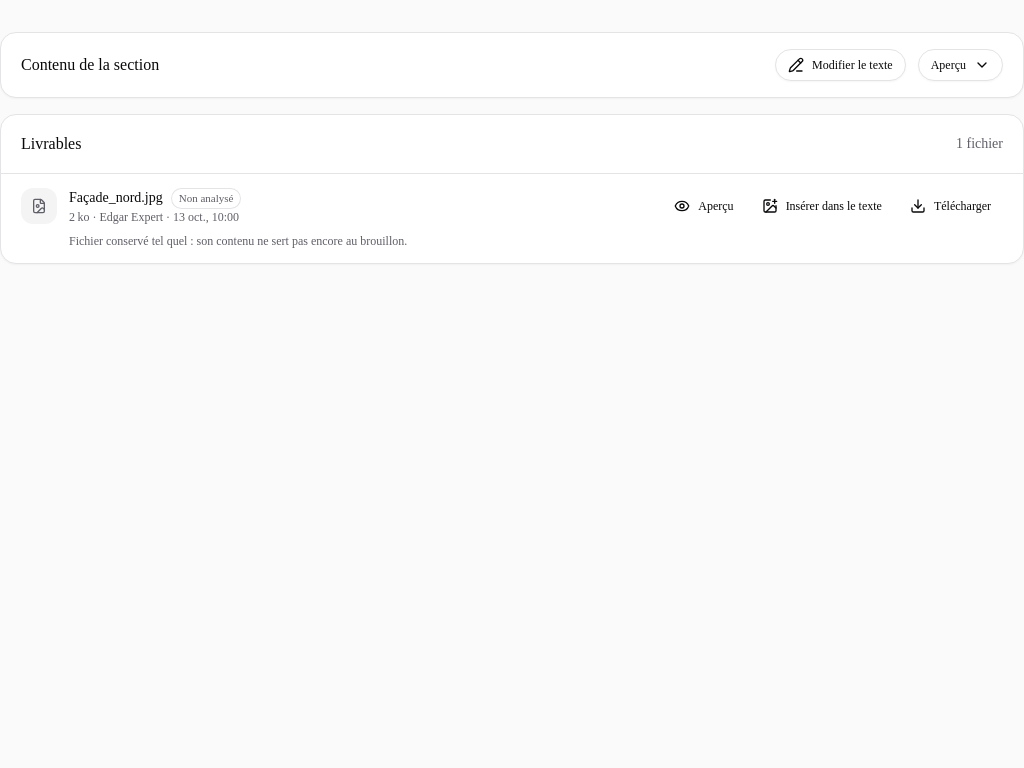
Insérer dans le texte › opens the editor with the image at the end of the text
Click the button with aria-label "Insérer Façade_nord.jpg dans le texte" at x=822, y=206, box [750,190,894,222]
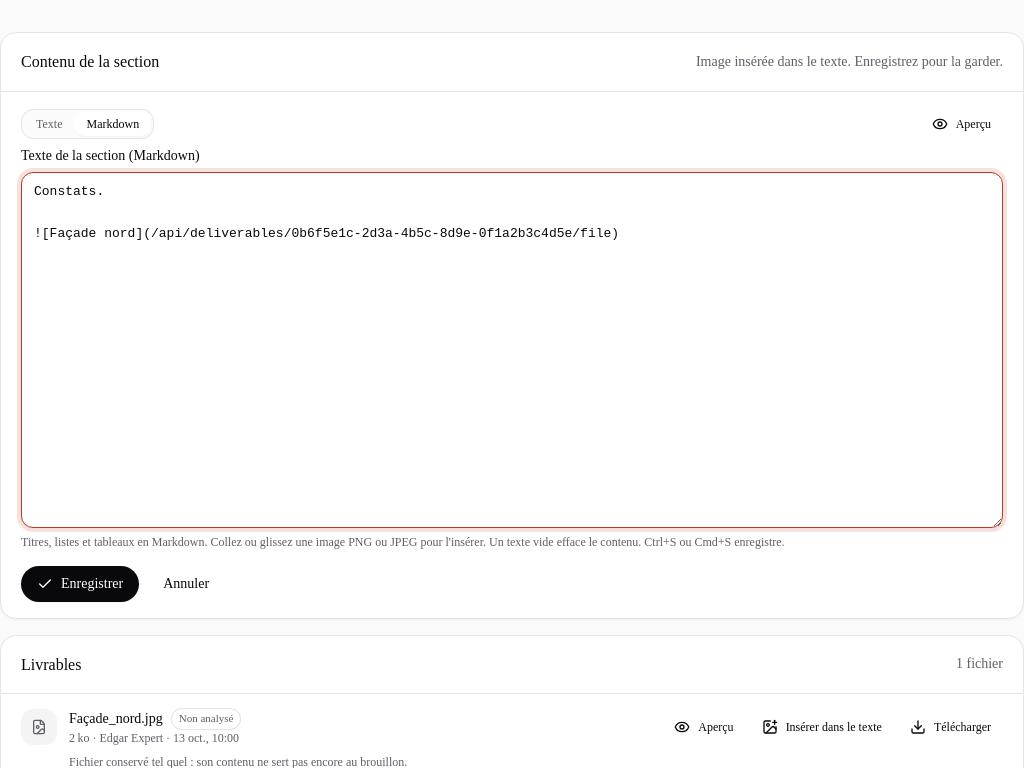
Result: the text "Image insérée dans le texte. Enregistrez pour la garder." is shown at [696,52,1003,72]
